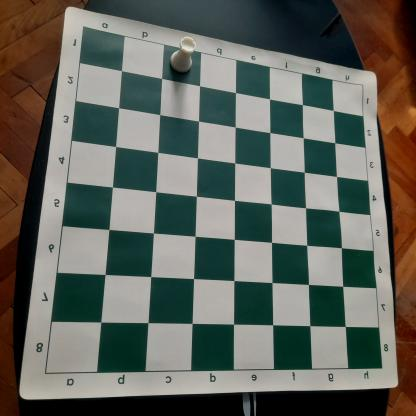white-rook: (165, 36, 198, 75)
